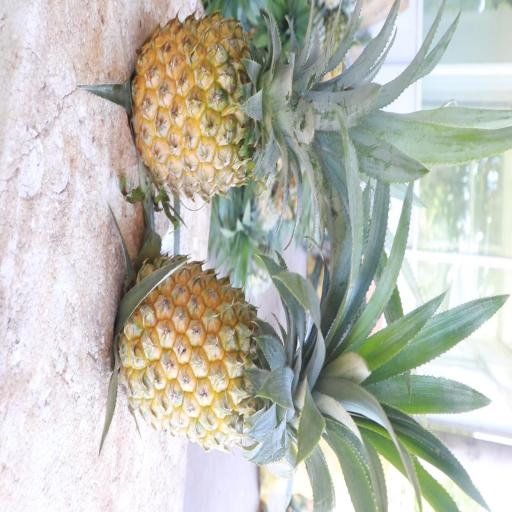Pineapple - v8 v1: (112, 254, 374, 460), (128, 11, 347, 207)
